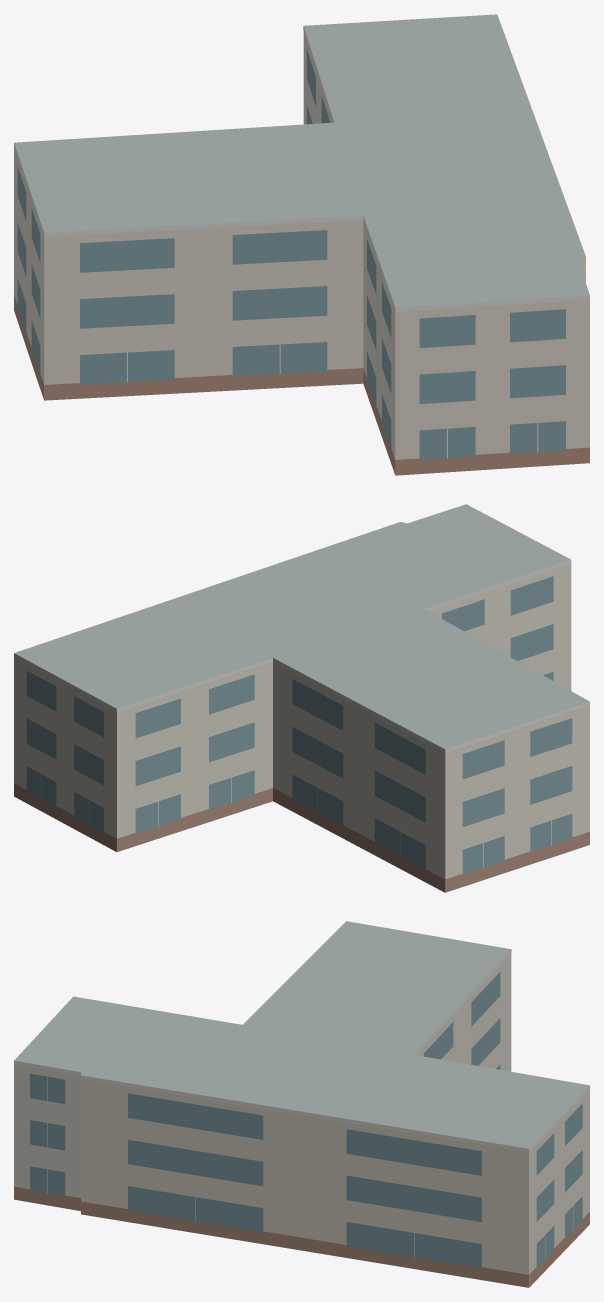
The model's file is survey-upis-32750086.glb.
The picture shows the model from 3 angles, top to bottom: view 1: azimuth 30°, elevation 25°; view 2: azimuth 150°, elevation 25°; view 3: azimuth 270°, elevation 25°; orthographic projection. The views are drawn at different scales.
Visible parts, largest first — view 1: survey-upis-32750086.tmp; view 2: survey-upis-32750086.tmp; view 3: survey-upis-32750086.tmp.
Boxes of the visible parts, box(x1,y1,x2,y2) form: survey-upis-32750086.tmp: box(14, 14, 589, 475); survey-upis-32750086.tmp: box(14, 504, 589, 892); survey-upis-32750086.tmp: box(14, 921, 589, 1287).
Bounding box in the file's own units: 32.68 × 9.3 × 34.92.
